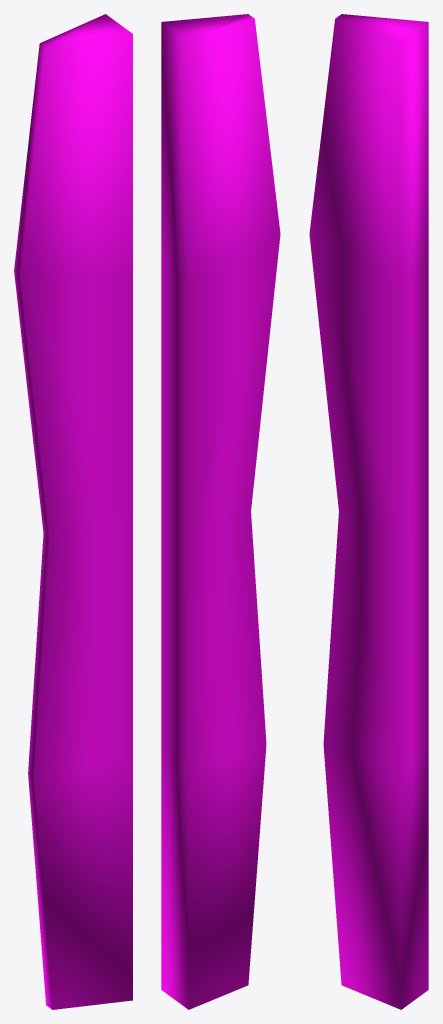
File: knife_meshCollider.fbx
The picture shows the model from 3 angles, left to right: view 1: azimuth 30°, elevation 25°; view 2: azimuth 210°, elevation 25°; view 3: azimuth 330°, elevation 25°; orthographic projection.
Parts seen in each view (by area): view 1: foods_knife_1_meshCollider; view 2: foods_knife_1_meshCollider; view 3: foods_knife_1_meshCollider.
Boxes of the visible parts, x1,y1,x2,y2 form: foods_knife_1_meshCollider: (14, 14, 132, 1009); foods_knife_1_meshCollider: (161, 14, 280, 1009); foods_knife_1_meshCollider: (309, 14, 428, 1009).
Size of the model in its own units: 2.86 by 25.94 by 1.33.
